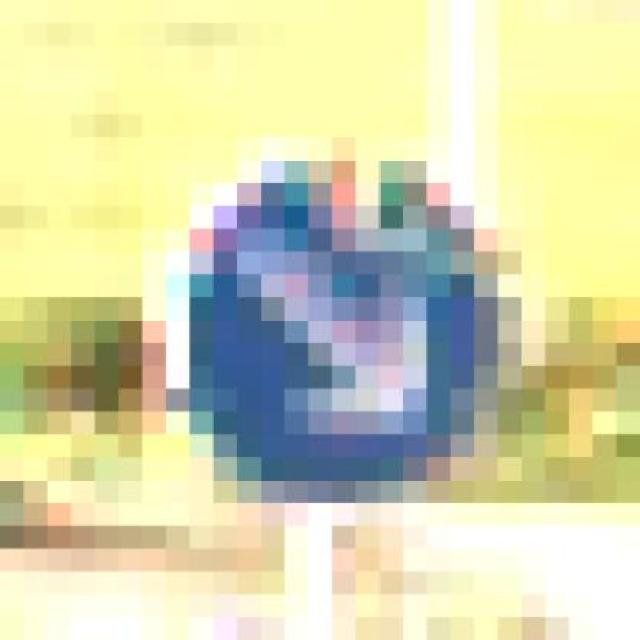Keep-Right: (118, 160, 545, 503)
